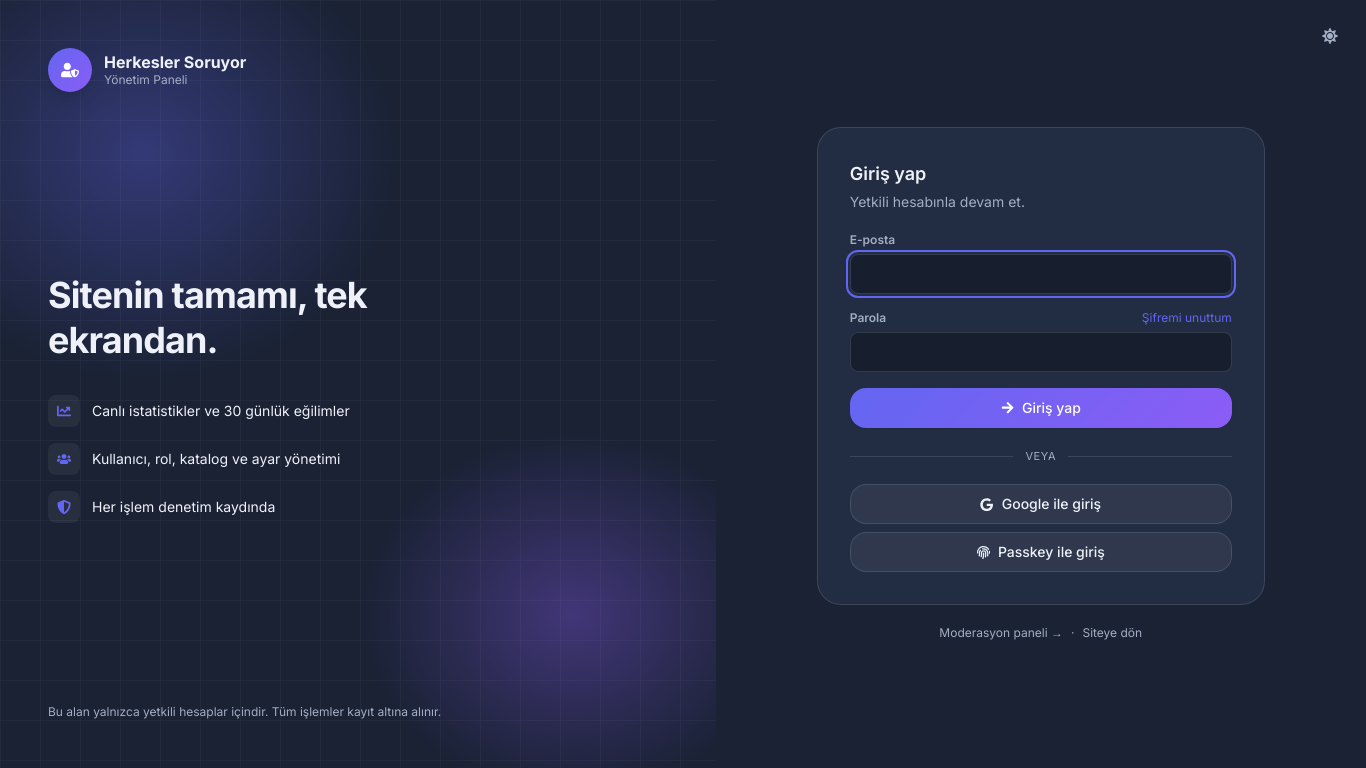
Test: PanelLogin › yetkisiz hesap hatası gösterilir
This screenshot has width=1366, height=768.
In the field with test id "login-email": x=1041, y=274 [850, 254, 1232, 294], type "u@b.c"
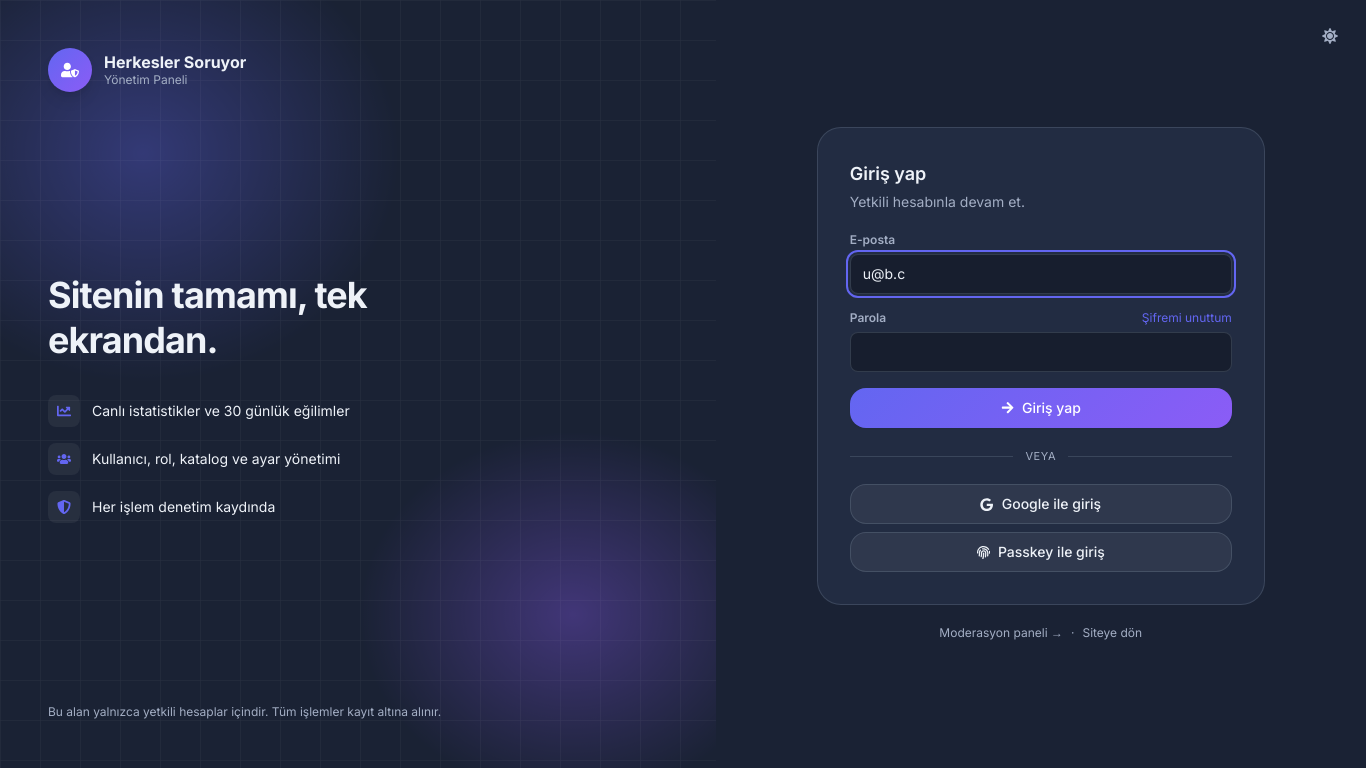
In the password field with test id "login-password": x=1041, y=352 [850, 332, 1232, 372], type "x"
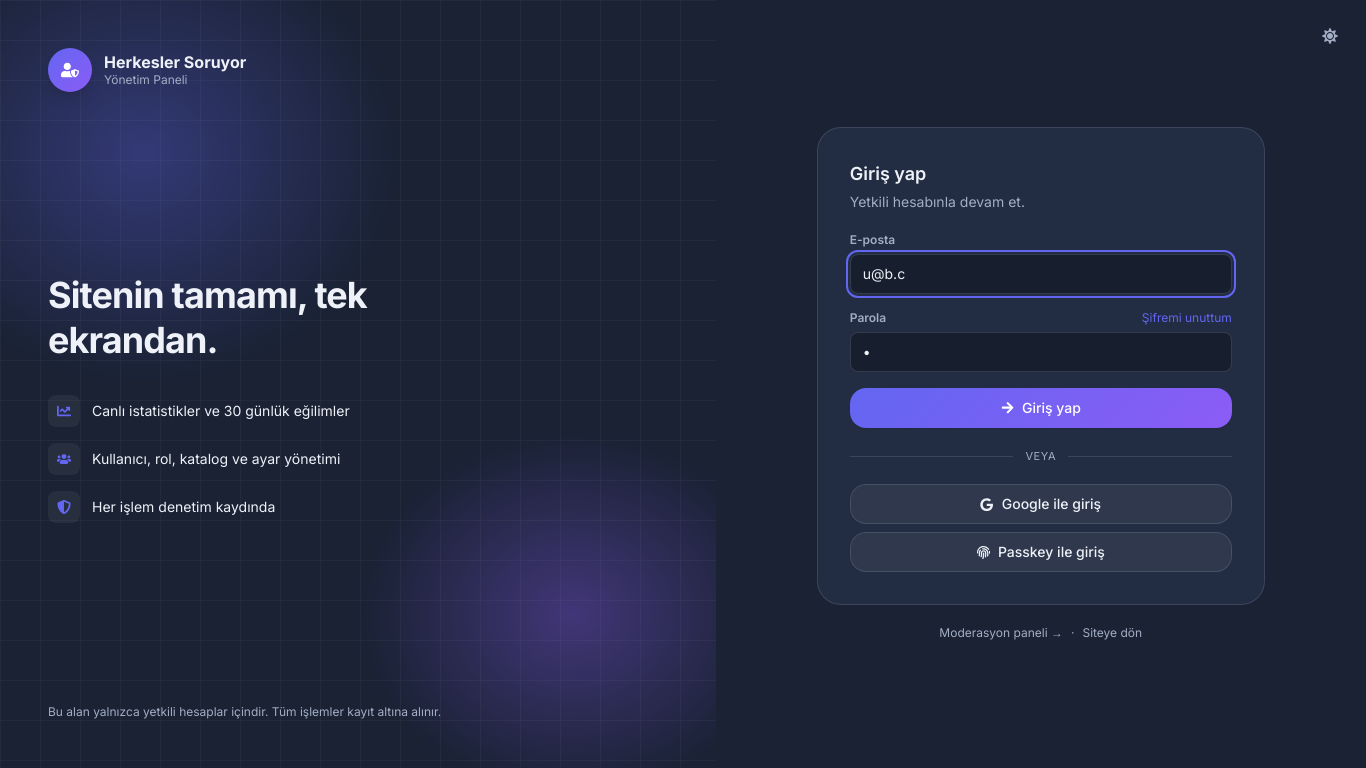
Click the button with test id "login-submit": x=1041, y=408 [850, 388, 1232, 428]
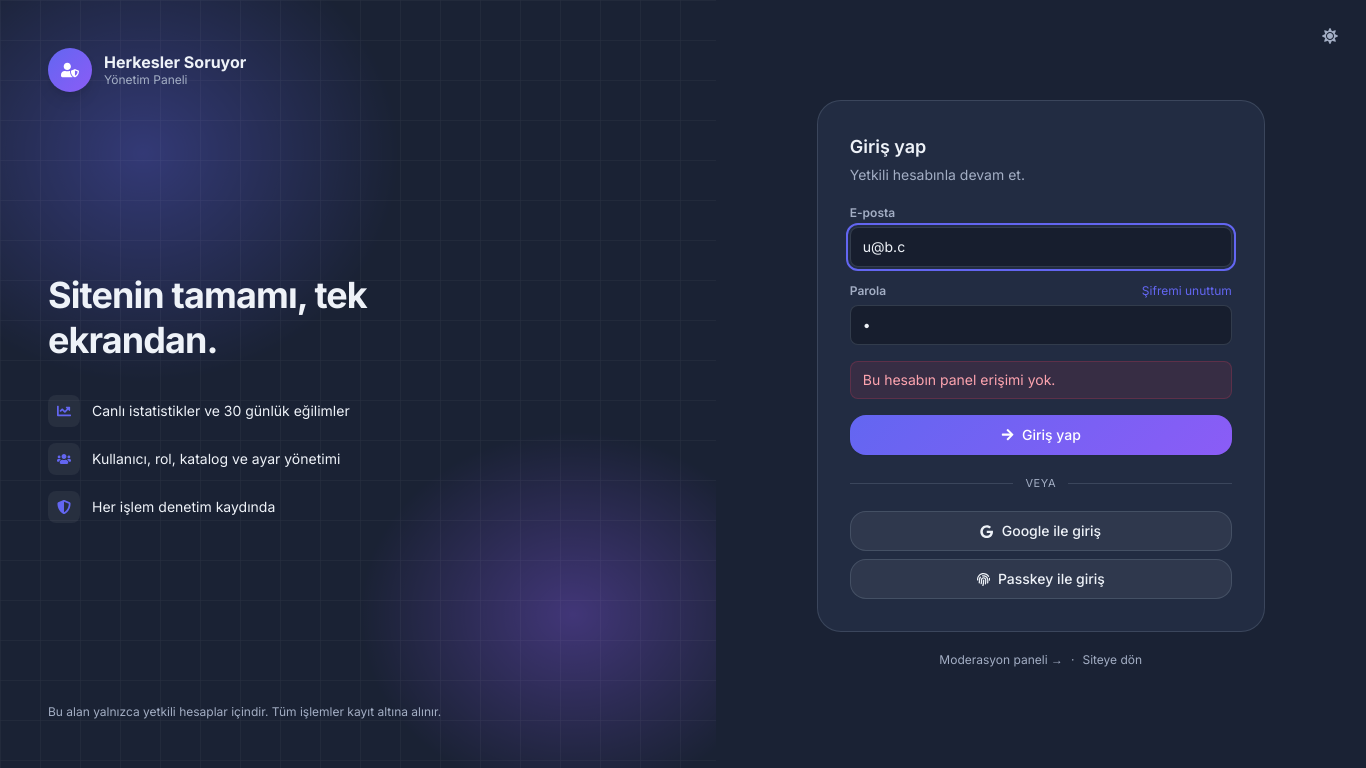
Check: the message shows "panel erişimi yok", box [863, 371, 1055, 388]
